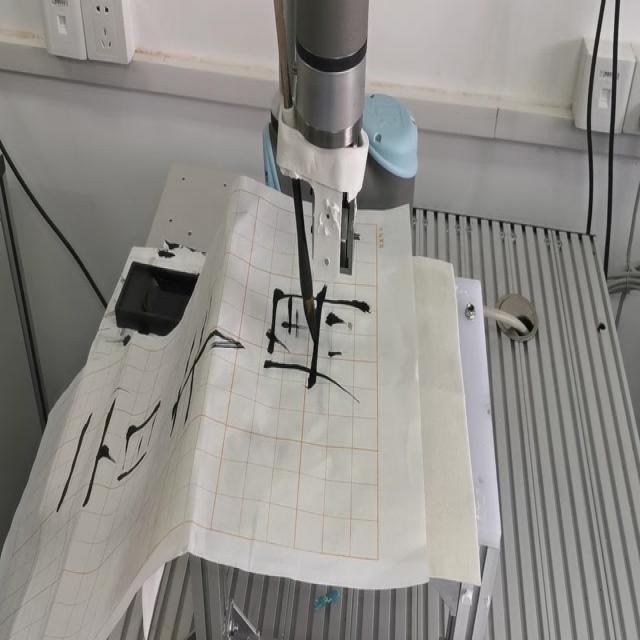head: (300, 299, 320, 350)
inkstone: (114, 259, 199, 338)
writing-brush: (265, 2, 322, 348)
